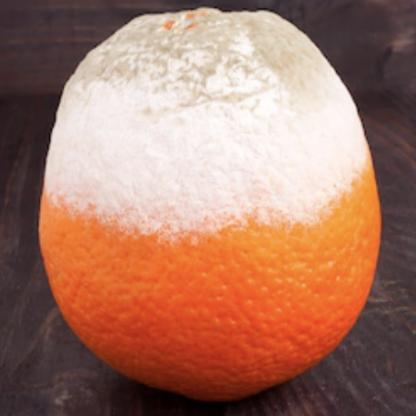rotten: (36, 10, 383, 404)
